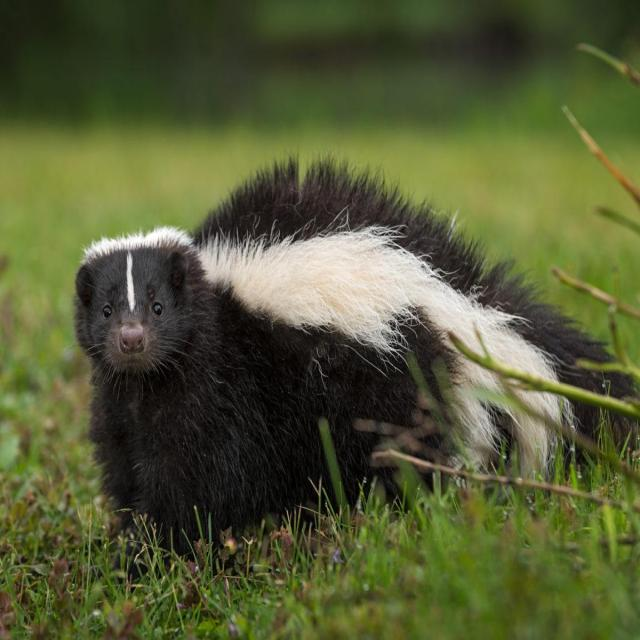Skunk: (67, 140, 640, 532)
